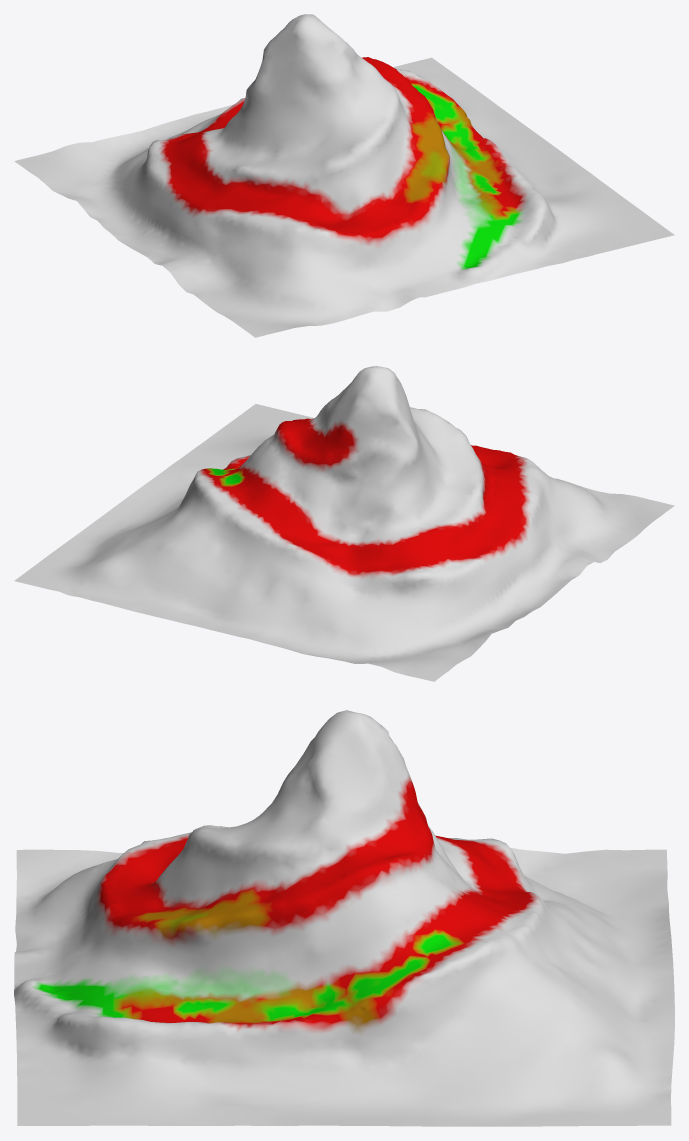
File: mountain_00.gltf
3 views of the same model, one above another, from view 1: azimuth 30°, elevation 25°; view 2: azimuth 150°, elevation 25°; view 3: azimuth 270°, elevation 25° (orthographic). The views are drawn at different scales.
Visible parts, largest first — view 1: mountain_00; view 2: mountain_00; view 3: mountain_00.
Part boxes in pixels (x1,y1,x2,y2): mountain_00: [14, 14, 674, 337]; mountain_00: [14, 366, 674, 681]; mountain_00: [14, 710, 674, 1126].
Bounding box in the file's own units: 201 × 89.46 × 202.
